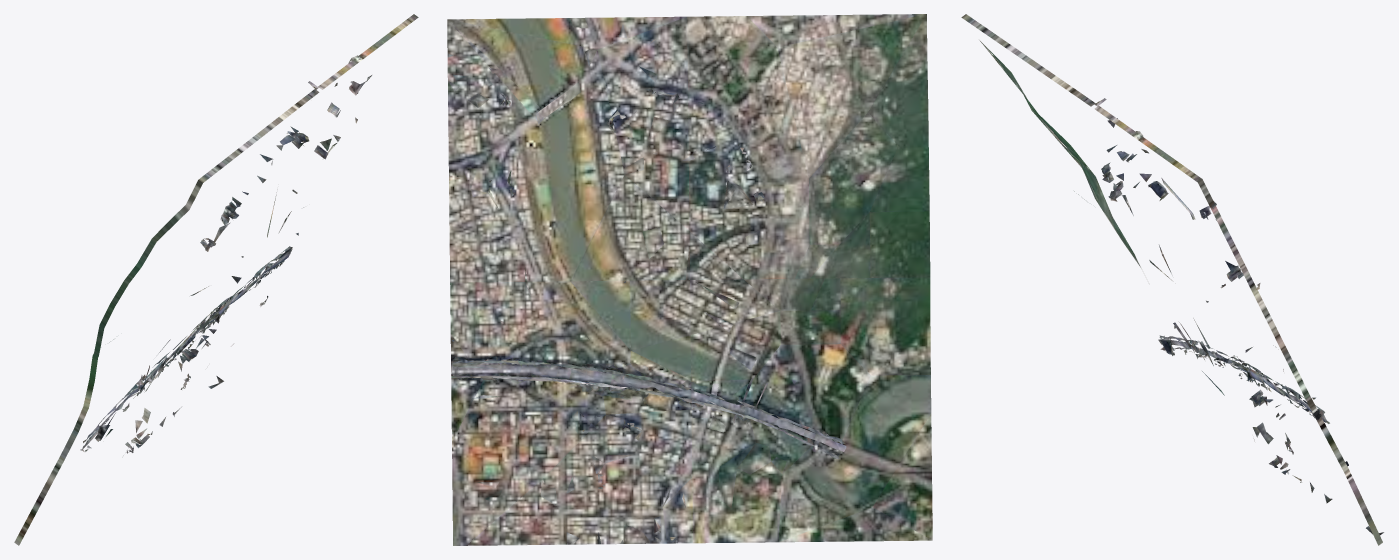
The picture shows the model from 3 angles, left to right: view 1: azimuth 30°, elevation 25°; view 2: azimuth 150°, elevation 25°; view 3: azimuth 270°, elevation 25°; orthographic projection. The views are drawn at different scales.
Bounding box in the file's own units: 2450 × 2244 × 2063.
Materials: 1 (1 with a texture image).
